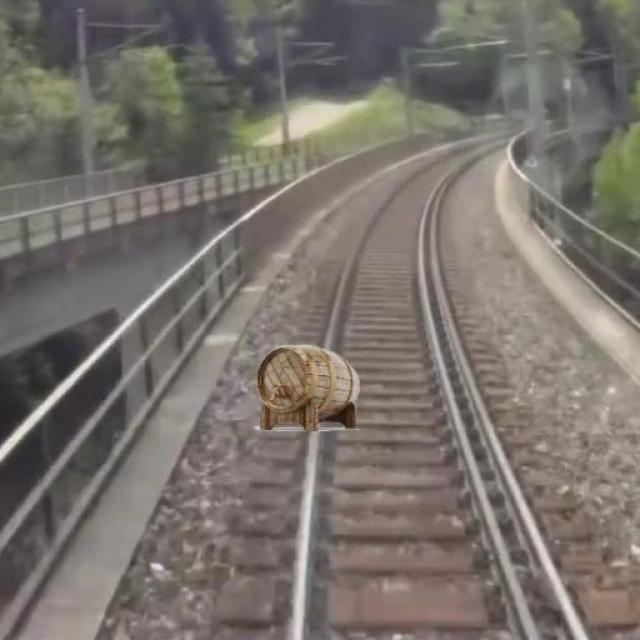Other_objects: (257, 334, 366, 451)
